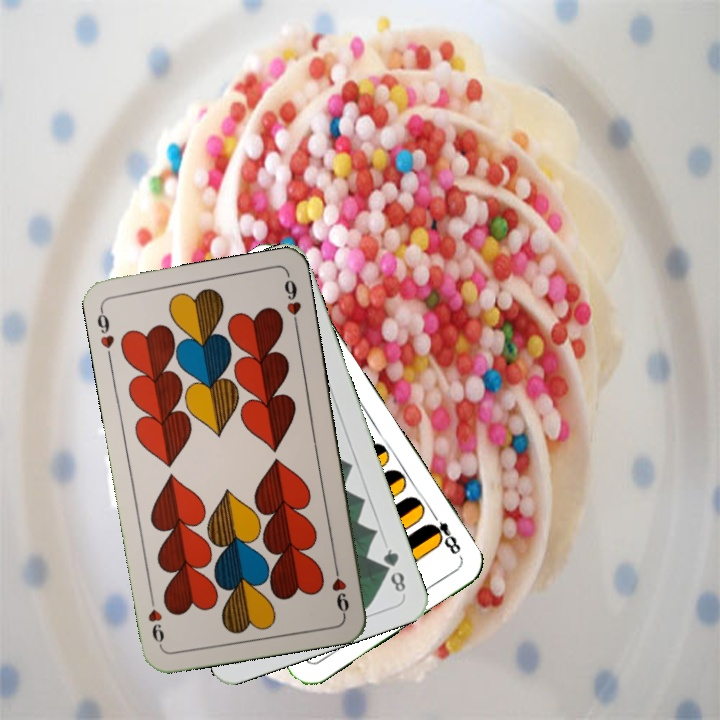E8: (423, 507, 464, 560)
G8: (379, 544, 409, 598)
H9: (327, 558, 352, 617), (93, 304, 117, 363)
